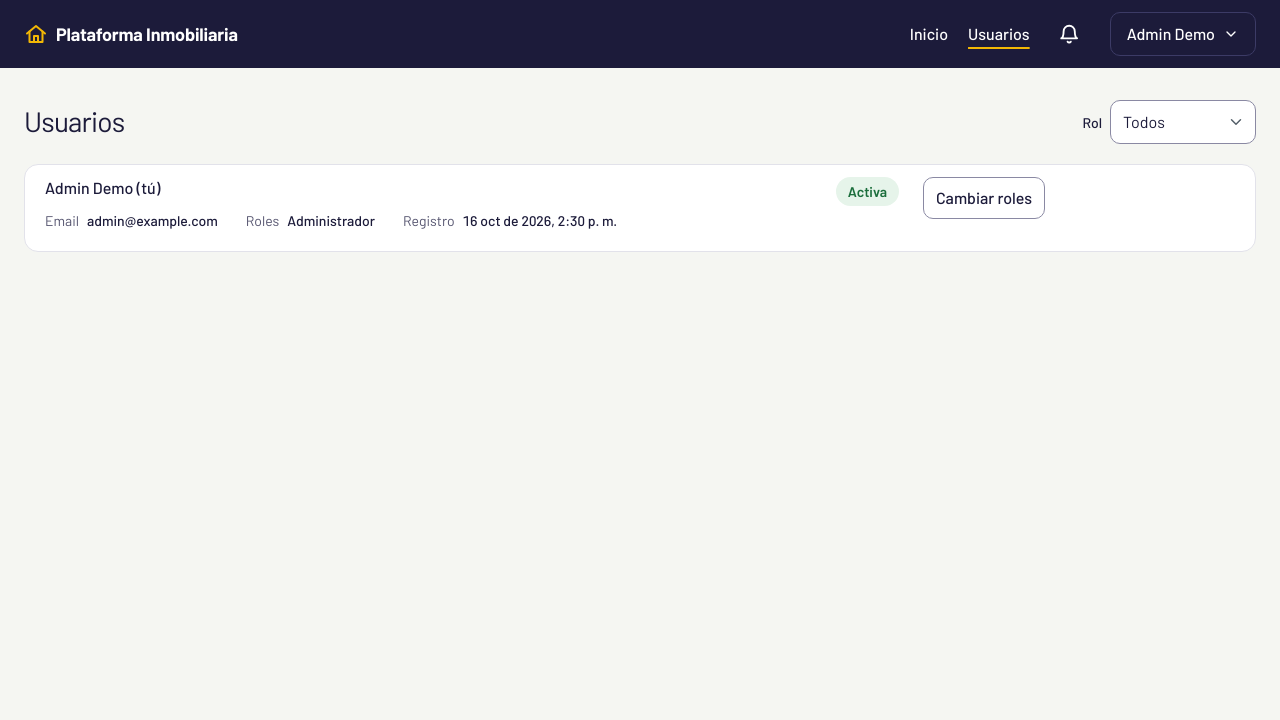
AdminUsersPage › does not offer an administrator to lock themselves out
Expected: the heading "Admin Demo (tú)" is shown, [45,178,160,197]
Click the button with aria-label "Cambiar roles: Admin Demo". click: click(984, 198)
box: [923,177,1045,219]
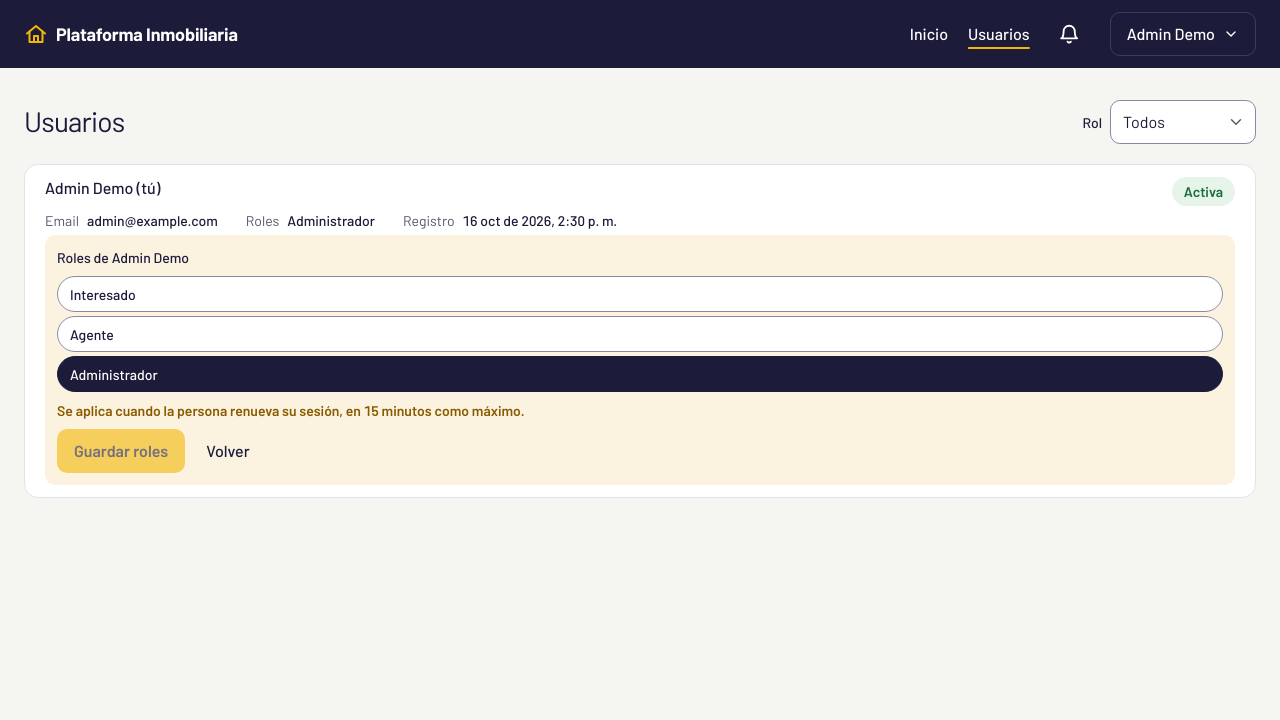
Now the checkbox labelled "Administrador" is disabled, box [57,356,1223,392]
